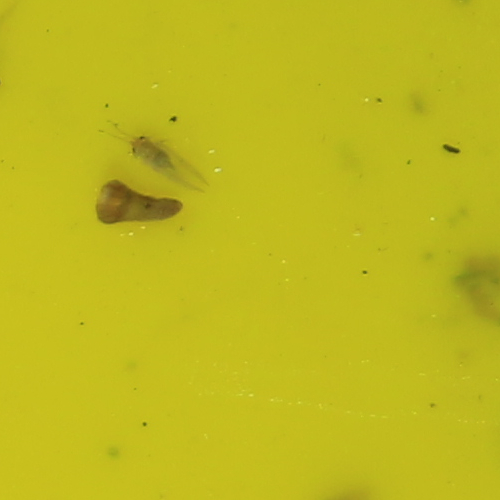Glycaspis: (123, 134, 177, 171)
